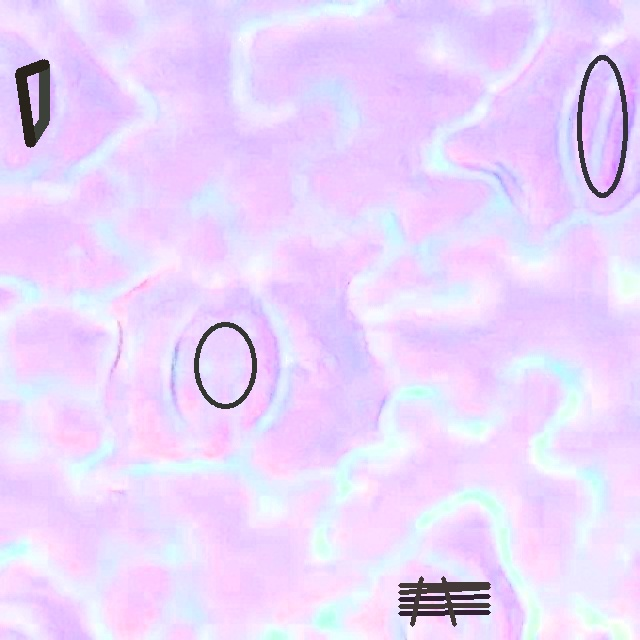close: (194, 321, 256, 409), (399, 577, 489, 625), (16, 59, 48, 147)
open: (575, 55, 628, 198)
